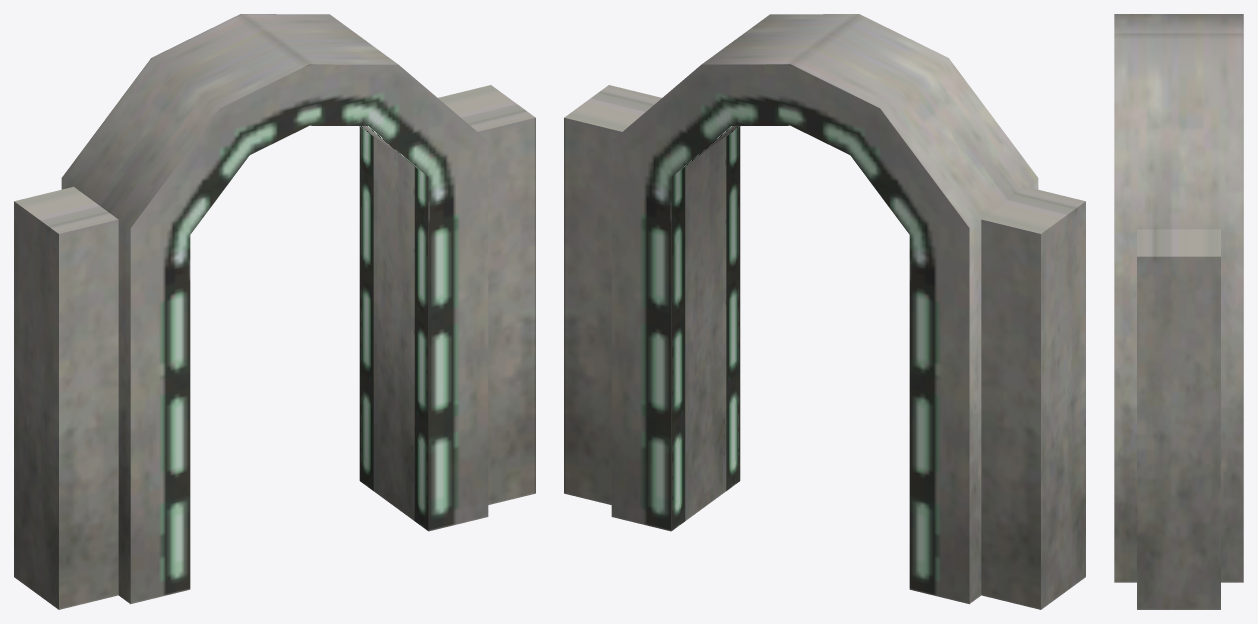
File: thm_corl_imprv_arch_sm_s02_l2.fbx
The picture shows the model from 3 angles, left to right: view 1: azimuth 30°, elevation 25°; view 2: azimuth 150°, elevation 25°; view 3: azimuth 270°, elevation 25°; orthographic projection. The views are drawn at different scales.
Parts seen in each view (by area): view 1: mesh_node; view 2: mesh_node; view 3: mesh_node.
Part boxes in pixels (left/top/right/bottom): mesh_node: left=14, top=14, right=535, bottom=609; mesh_node: left=564, top=14, right=1085, bottom=609; mesh_node: left=1114, top=14, right=1243, bottom=609.
Size of the model in its own units: 8 by 7.95 by 2.
Materials: 1 (1 with a texture image).
